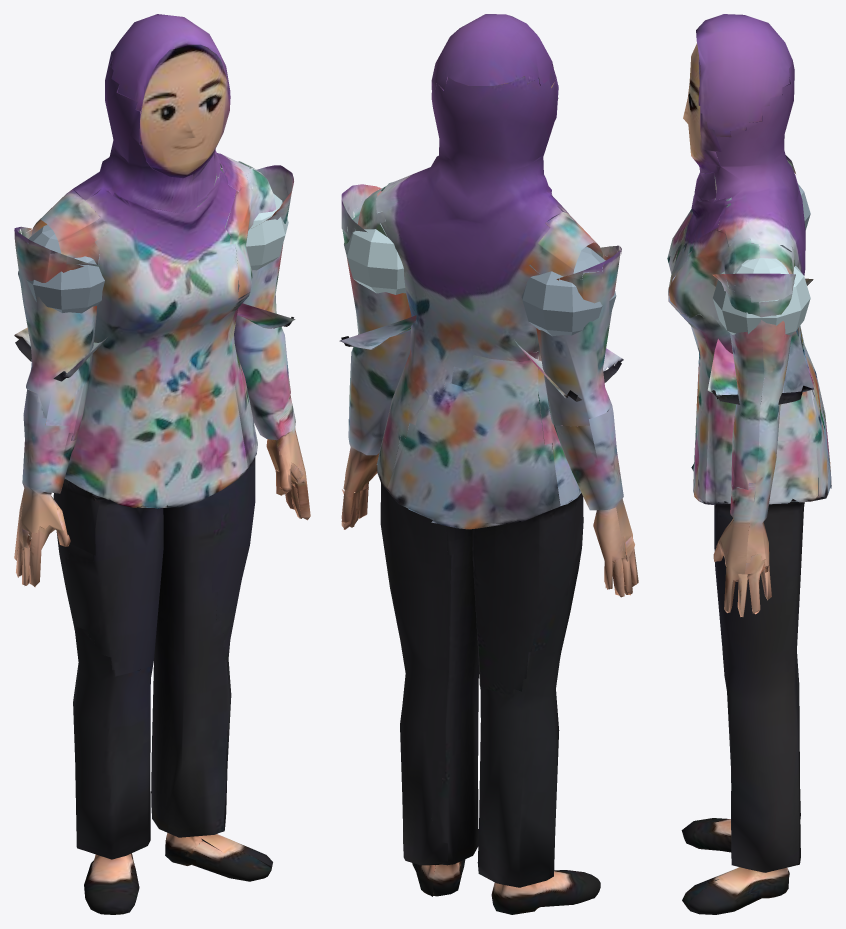
Rendered from npc_ibu.glb.
3 views of the same model, side by side, from view 1: azimuth 30°, elevation 25°; view 2: azimuth 150°, elevation 25°; view 3: azimuth 270°, elevation 25° (orthographic).
Parts seen in each view (by area): view 1: torso, leg_r, leg_l, arm_r, head, arm_l; view 2: torso, leg_r, leg_l, head, arm_r, arm_l; view 3: torso, leg_l, arm_l, head, arm_r, leg_r.
Boxes of the visible parts, left/top/right/bottom form: torso: left=18, top=136, right=288, bottom=502; leg_r: left=53, top=487, right=187, bottom=914; leg_l: left=151, top=462, right=272, bottom=881; arm_r: left=14, top=226, right=295, bottom=587; head: left=105, top=14, right=230, bottom=166; arm_l: left=14, top=165, right=310, bottom=520; torso: left=344, top=151, right=616, bottom=524; leg_r: left=445, top=489, right=600, bottom=914; leg_l: left=380, top=483, right=479, bottom=896; head: left=431, top=14, right=558, bottom=170; arm_r: left=339, top=245, right=638, bottom=597; arm_l: left=341, top=184, right=623, bottom=529; torso: left=667, top=127, right=829, bottom=514; leg_l: left=682, top=474, right=831, bottom=914; arm_l: left=712, top=273, right=813, bottom=617; head: left=683, top=14, right=794, bottom=166; arm_r: left=707, top=155, right=813, bottom=404; leg_r: left=681, top=458, right=831, bottom=852.
Bounding box in the file's own units: 0.5362 × 1.56 × 0.2719.
Materials: 1 (1 with a texture image).
